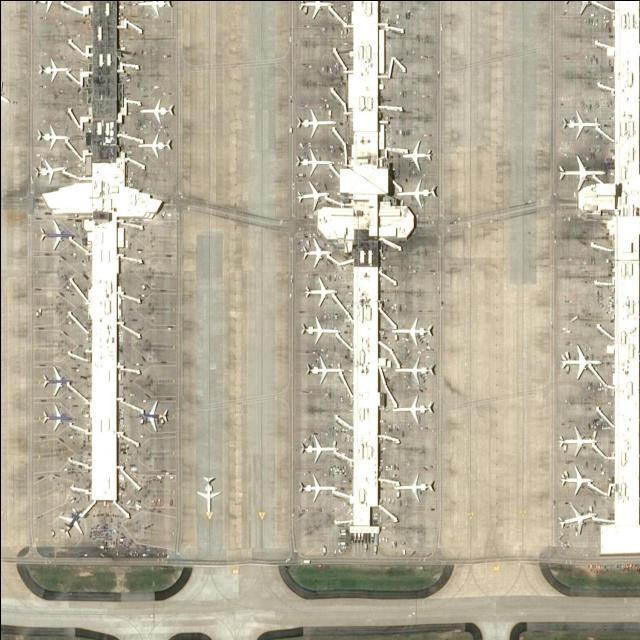Aircraft: (557, 151, 605, 189), (561, 344, 602, 378), (391, 394, 436, 422), (392, 472, 435, 501), (558, 424, 598, 455), (298, 471, 338, 502), (394, 355, 435, 385), (39, 216, 73, 252), (559, 502, 598, 533), (296, 107, 338, 135), (301, 315, 343, 343), (392, 315, 434, 343), (561, 108, 600, 138), (301, 431, 340, 461), (295, 179, 333, 209), (305, 355, 345, 383), (302, 233, 334, 267), (559, 465, 595, 495), (297, 146, 335, 174), (397, 178, 434, 206), (303, 276, 341, 303), (41, 364, 75, 394), (195, 472, 219, 514), (402, 139, 434, 169), (139, 398, 169, 430), (33, 122, 71, 147), (57, 505, 85, 537), (39, 55, 71, 82), (138, 98, 174, 122), (135, 132, 173, 154), (33, 158, 68, 181), (42, 404, 74, 428), (300, 0, 335, 17), (563, 0, 605, 14), (138, 0, 174, 15), (33, 0, 67, 10)
